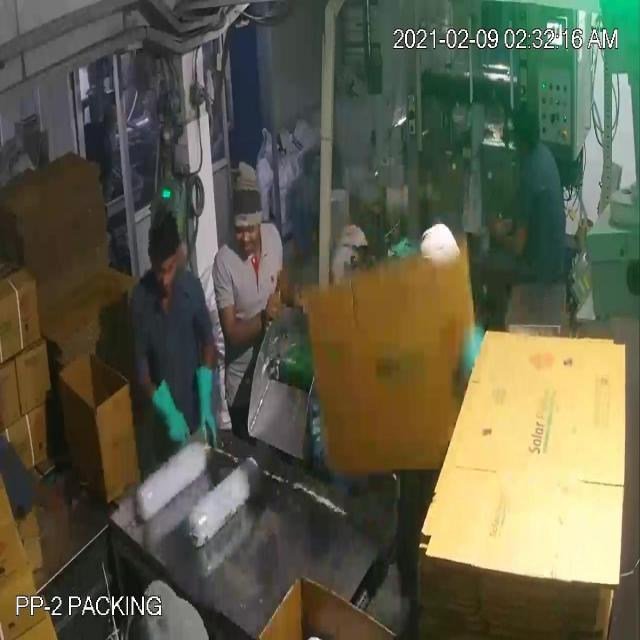Gloves: (31, 62, 510, 410)
